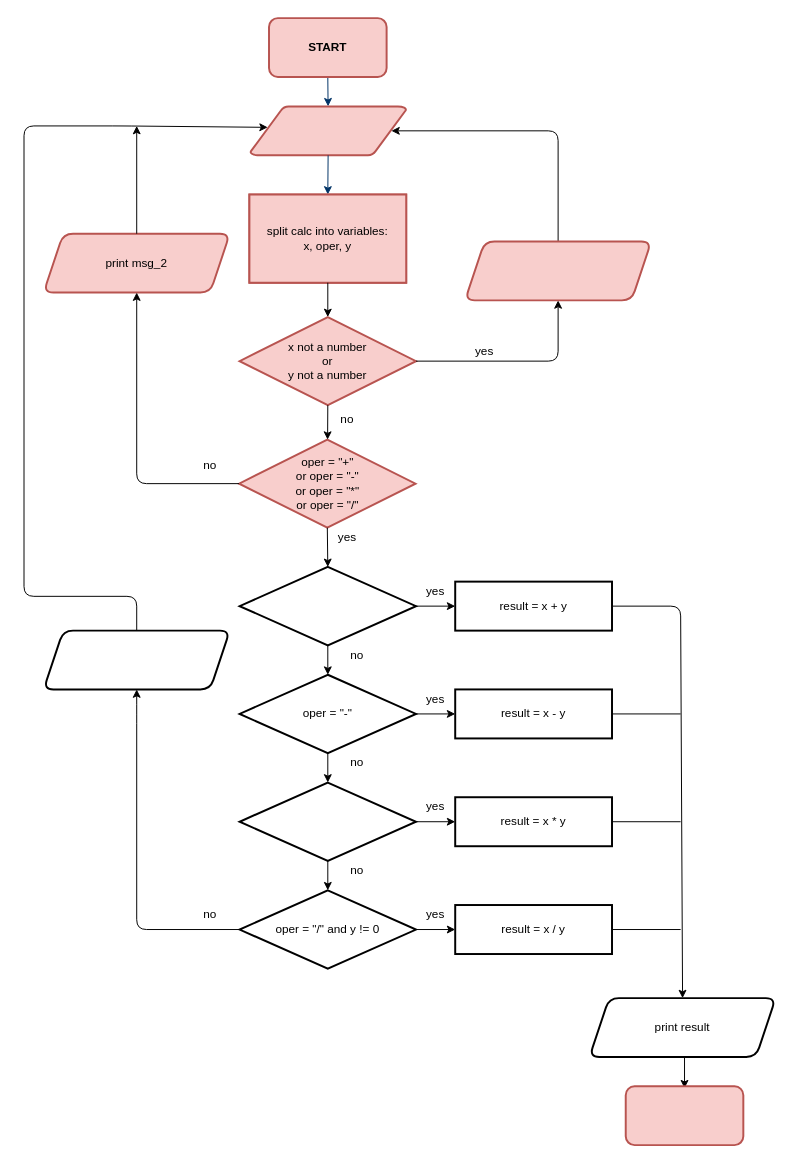
The diagram is 796 pixels wide and 1162 high, and some of its shapes have lost their labels. The box of each missing label's shape, as (x1, y1, x2, y2) in pixels:
END: (624, 1085, 744, 1146)
oper = "*": (238, 781, 416, 861)
oper = "+": (238, 565, 416, 646)
print msg_0 read calc: (249, 105, 407, 156)
print msg_1: (464, 240, 652, 301)
print msg_3: (42, 629, 230, 690)
